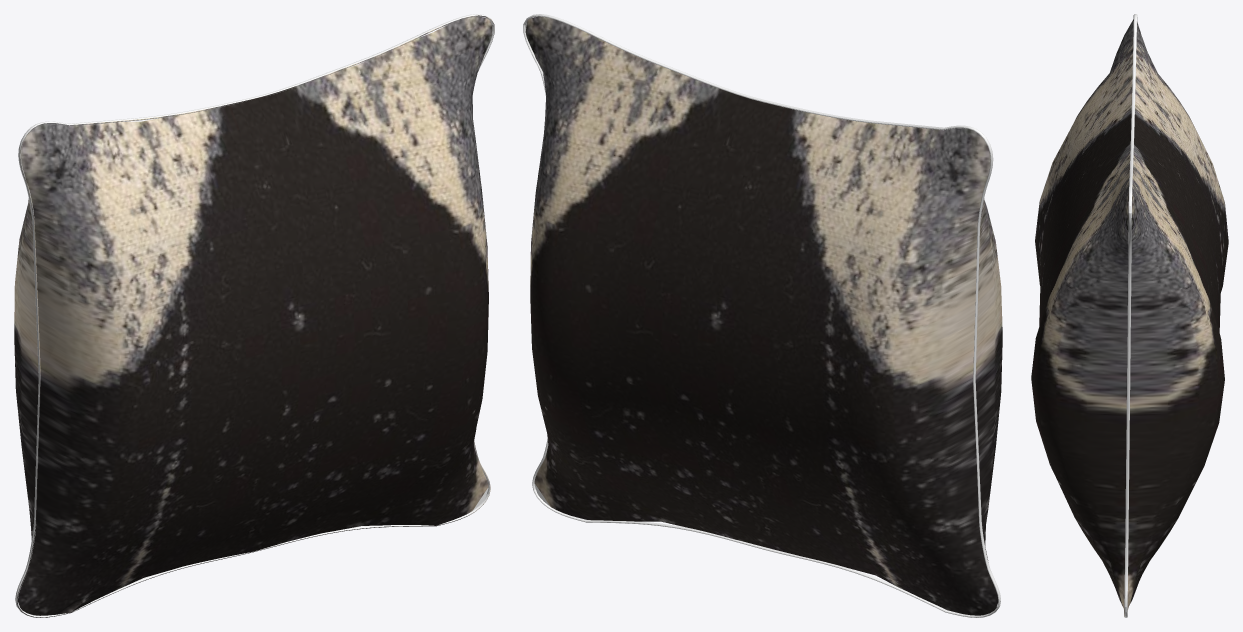
Rendered from Nero_ChevronCushion-Square.glb.
3 views of the same model, side by side, from view 1: azimuth 30°, elevation 25°; view 2: azimuth 150°, elevation 25°; view 3: azimuth 270°, elevation 25° (orthographic). The views are drawn at different scales.
Parts seen in each view (by area): view 1: model 4; view 2: model 4; view 3: model 4.
Part boxes in pixels (bbox=[...]): model 4: bbox=[14, 14, 494, 617]; model 4: bbox=[523, 14, 1002, 617]; model 4: bbox=[1031, 14, 1228, 617].
Size of the model in its own units: 0.5 by 0.5 by 0.2075.
Materials: 2 (1 with a texture image).
